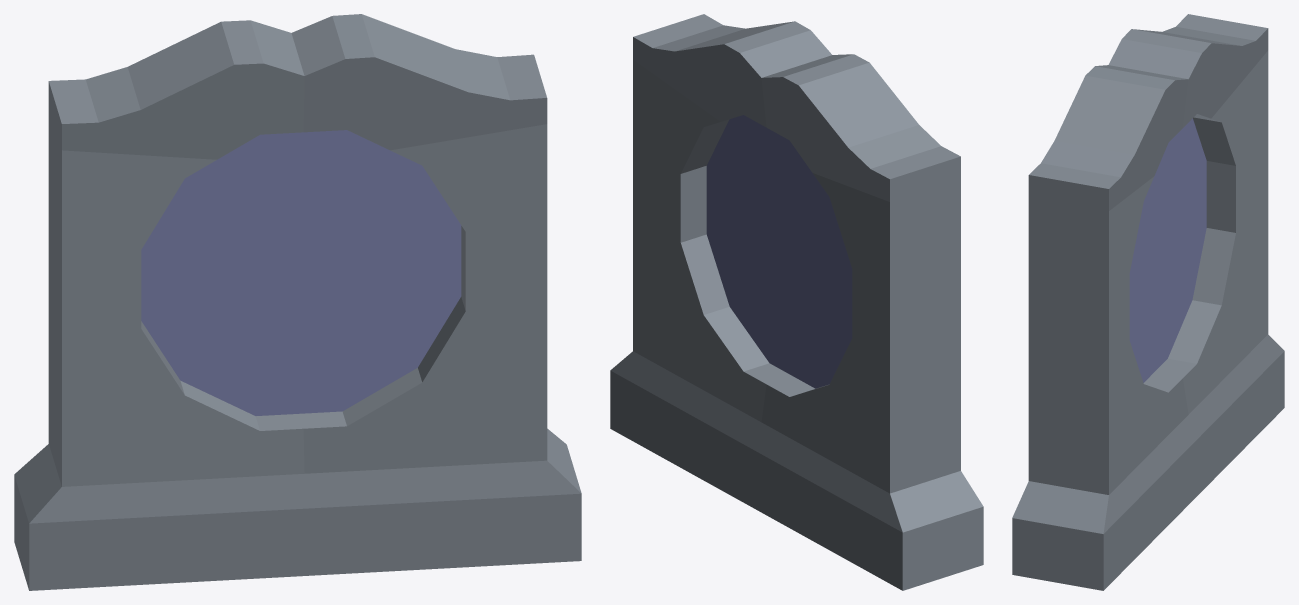
The model's file is teleport.glb.
The picture shows the model from 3 angles, left to right: view 1: azimuth 30°, elevation 25°; view 2: azimuth 150°, elevation 25°; view 3: azimuth 270°, elevation 25°; orthographic projection. The views are drawn at different scales.
Visible parts, largest first — view 1: Teleporter.016; view 2: Teleporter.016; view 3: Teleporter.016.
Boxes of the visible parts, x1,y1,x2,y2 form: Teleporter.016: (14, 14, 581, 590); Teleporter.016: (610, 14, 983, 590); Teleporter.016: (1012, 14, 1284, 590).
Bounding box in the file's own units: 0.1081 × 0.1092 × 0.0625.
